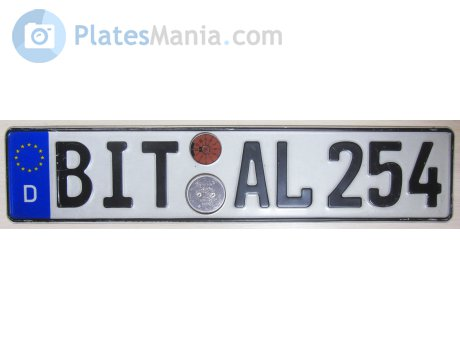License Plates: (49, 132, 444, 209)
